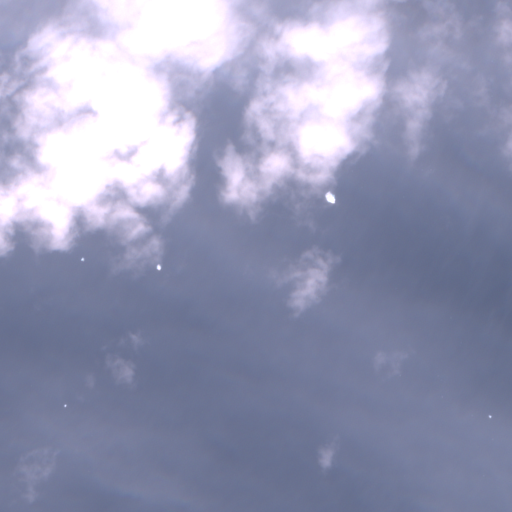Iceberg: (325, 191, 335, 203), (156, 264, 160, 270), (81, 257, 84, 260), (488, 415, 491, 417), (64, 404, 66, 406)
